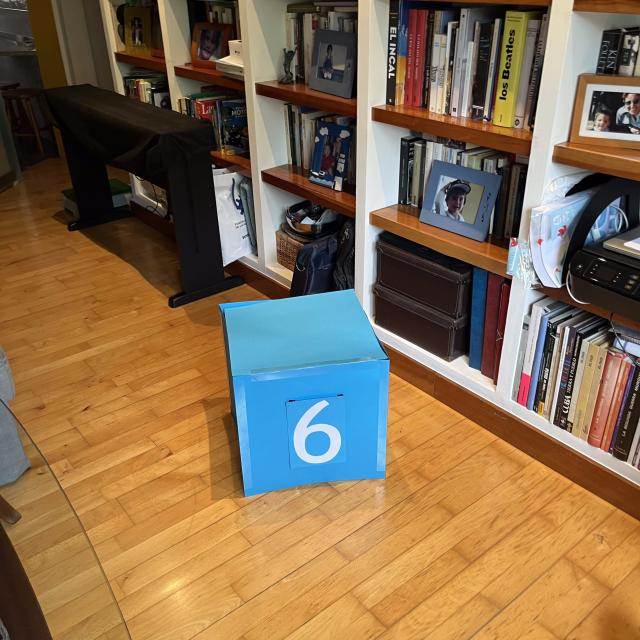box: (214, 285, 394, 498)
